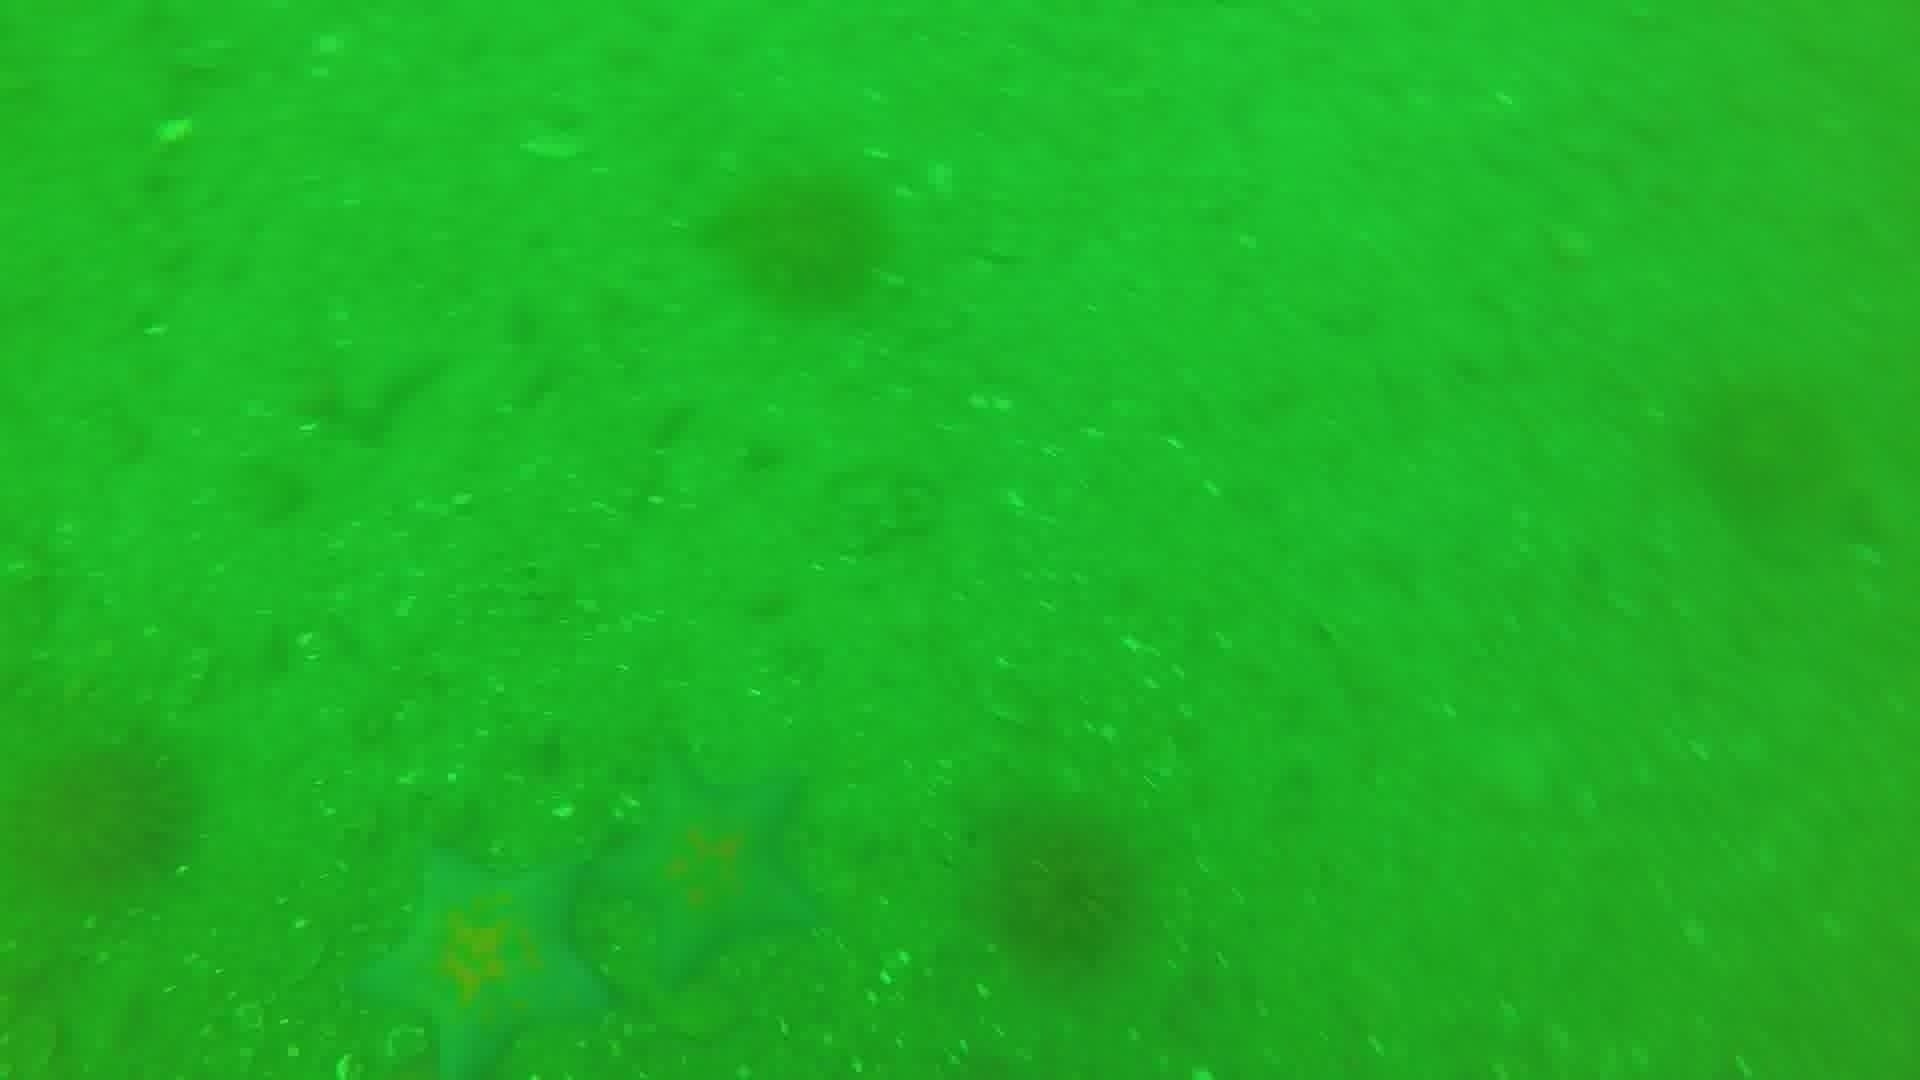echinus: (7, 725, 204, 895), (971, 793, 1149, 975), (709, 162, 895, 316), (1683, 375, 1847, 525)
starfish: (353, 843, 615, 1079), (592, 748, 828, 990)
